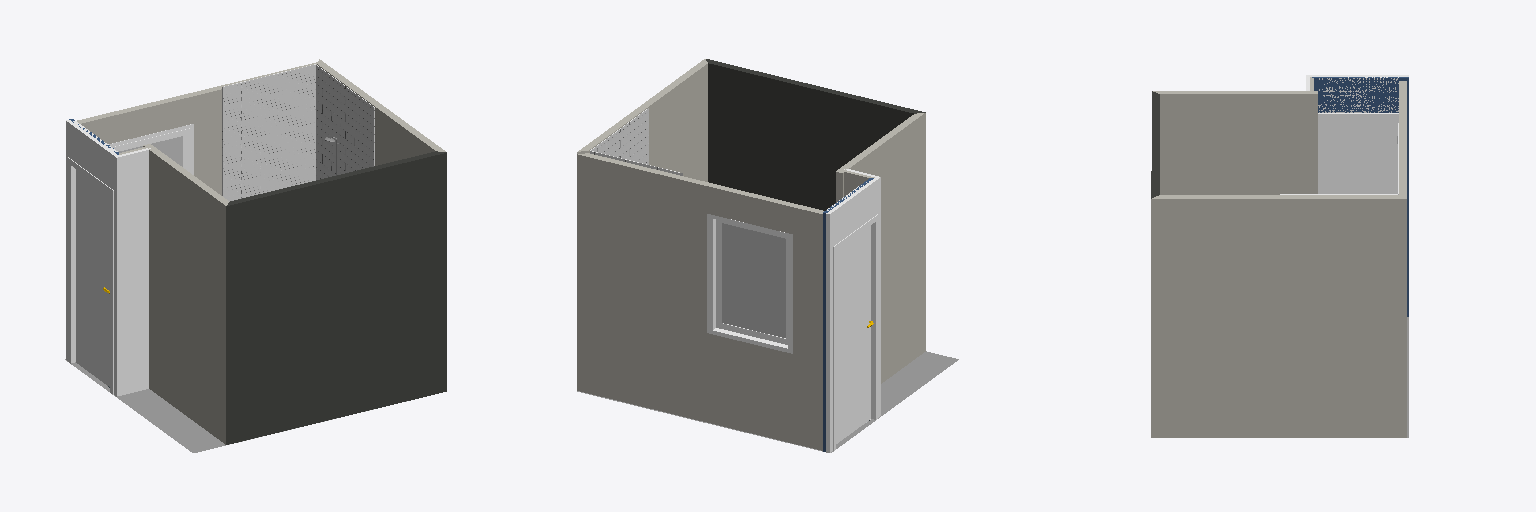
3 renders of one model, left to right at view 1: azimuth 30°, elevation 25°; view 2: azimuth 150°, elevation 25°; view 3: azimuth 270°, elevation 25°, orthographic.
Parts seen in each view (by area): view 1: wall_3_16, wall_4_22, wall_10_58, wall_5_28, sweethome3d_opening_on_hinge_1_door_71, wall_1_5, wall_9_53, ground_1, frame_63, wall_2_11, wall_6_34, wall_8_46 (+2 smaller); view 2: wall_1_4, wall_3_17, wall_4_22, sweethome3d_opening_on_hinge_1_door_71, sweethome3d_window_pane_on_hinge_1_78, wall_2_11, frame_72, frame_63, ground_1, wall_6_34, wall_9_53, sweethome3d_opening_on_hinge_1_77 (+2 smaller); view 3: wall_2_10, wall_4_23, sweethome3d_opening_on_hinge_1_door_71, wall_6_35, wall_7_40.
Boxes of the visible parts, box(x1,y1,x2,y2) form: wall_3_16: box(226, 153, 446, 444); wall_4_22: box(143, 146, 225, 444); wall_10_58: box(223, 65, 315, 201); wall_5_28: box(117, 150, 148, 395); sweethome3d_opening_on_hinge_1_door_71: box(76, 169, 109, 386); wall_1_5: box(81, 89, 221, 195); wall_9_53: box(316, 65, 374, 179); ground_1: box(65, 359, 406, 452); frame_63: box(68, 157, 113, 394); wall_2_11: box(317, 64, 434, 165); wall_6_34: box(66, 121, 116, 396); wall_8_46: box(68, 122, 110, 184); wall_1_4: box(577, 154, 822, 450); wall_3_17: box(708, 63, 913, 210); wall_4_22: box(839, 113, 925, 383); sweethome3d_opening_on_hinge_1_door_71: box(836, 226, 870, 443); sweethome3d_window_pane_on_hinge_1_78: box(722, 223, 785, 337); wall_2_11: box(583, 64, 707, 181); frame_72: box(707, 214, 792, 353); frame_63: box(833, 214, 878, 450); ground_1: box(577, 351, 958, 452); wall_6_34: box(826, 177, 880, 452); wall_9_53: box(591, 108, 648, 164); sweethome3d_opening_on_hinge_1_77: box(716, 219, 787, 344); wall_2_10: box(1151, 199, 1406, 437); wall_4_23: box(1160, 94, 1317, 194); sweethome3d_opening_on_hinge_1_door_71: box(1318, 118, 1397, 193); wall_6_35: box(1314, 78, 1408, 316); wall_7_40: box(1318, 78, 1398, 112).
Bounding box in the file's own units: 272 × 244 × 238.
Materials: 14 (2 with a texture image).